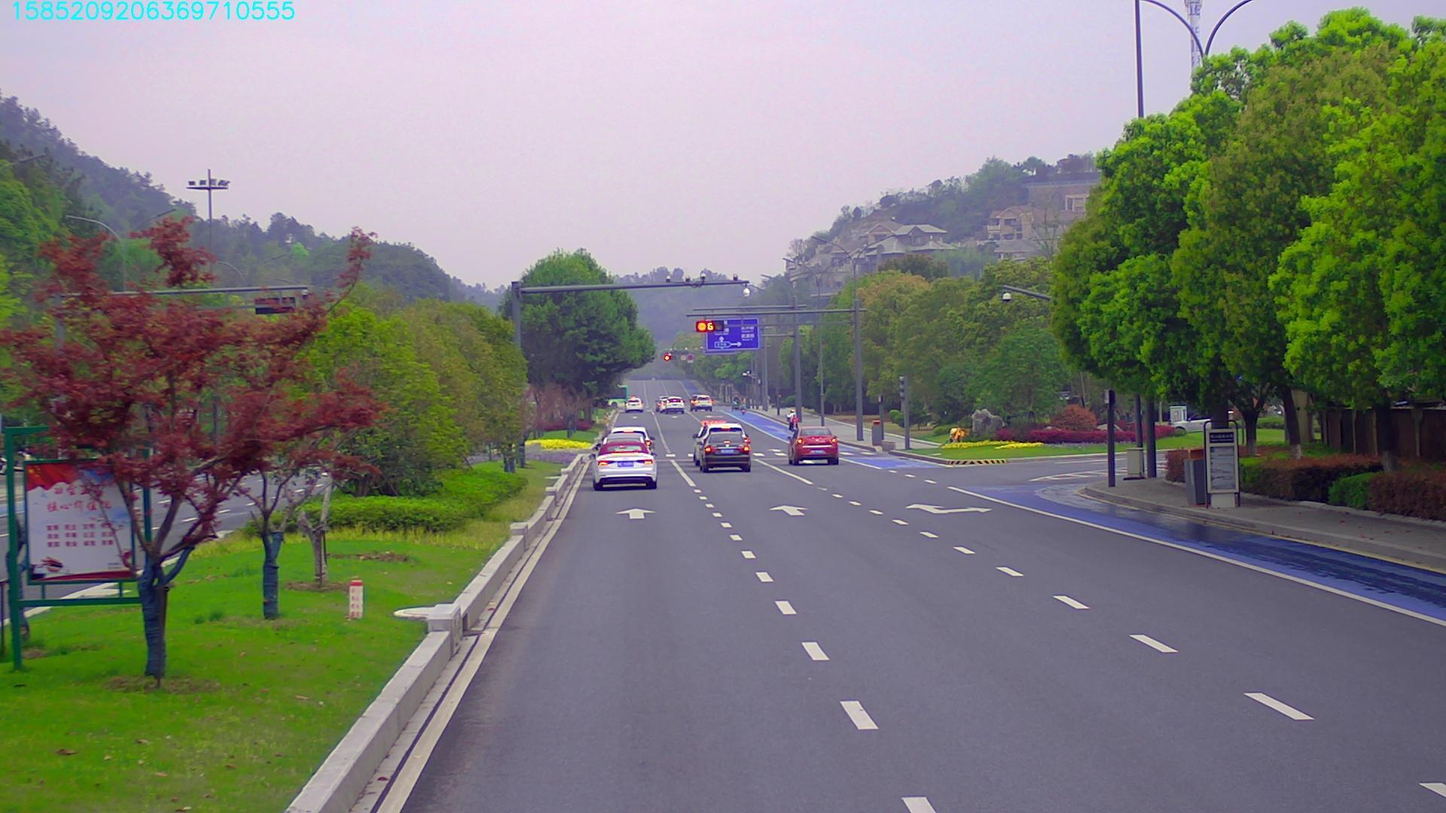red: (696, 318, 725, 333)
